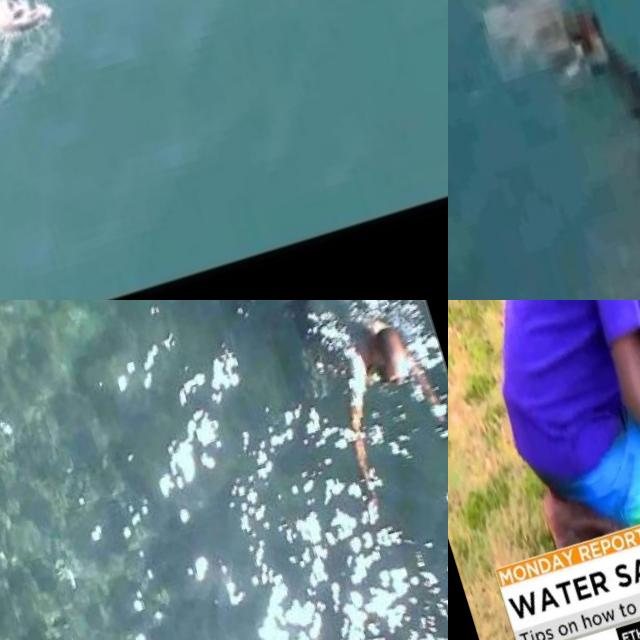drowning: (518, 0, 640, 300)
out of water: (448, 300, 640, 561)
swimming: (250, 300, 448, 497), (0, 0, 50, 64)
